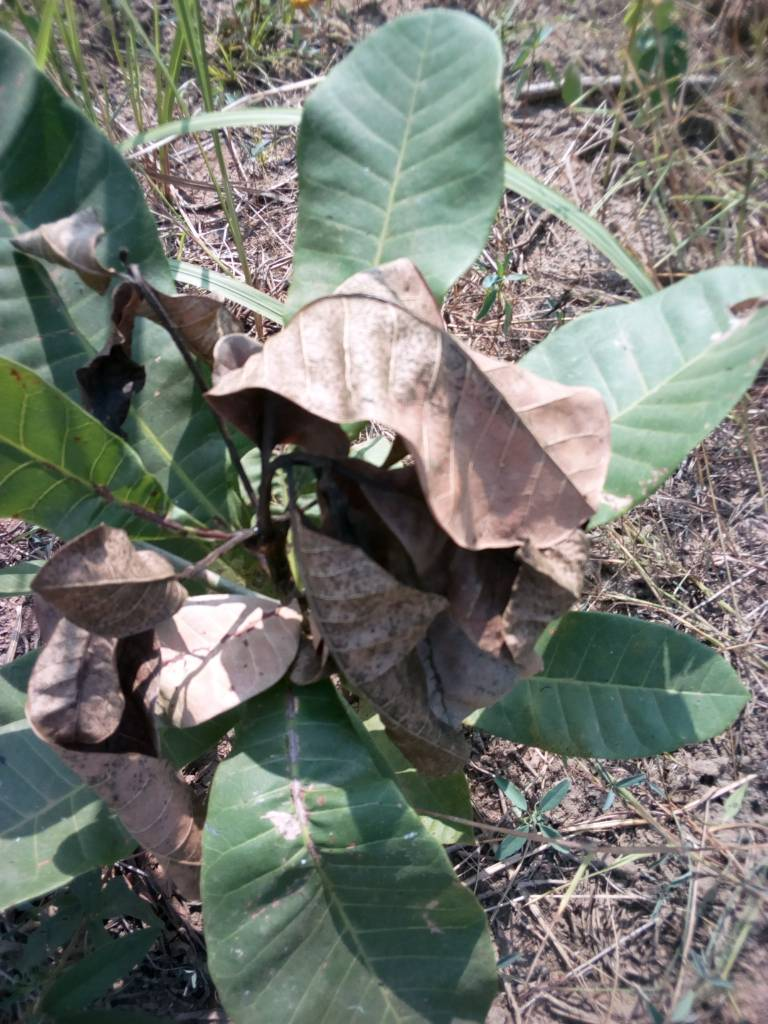Dessèchement des bourgeons: (260, 296, 611, 547), (21, 200, 219, 366), (40, 522, 261, 657)
